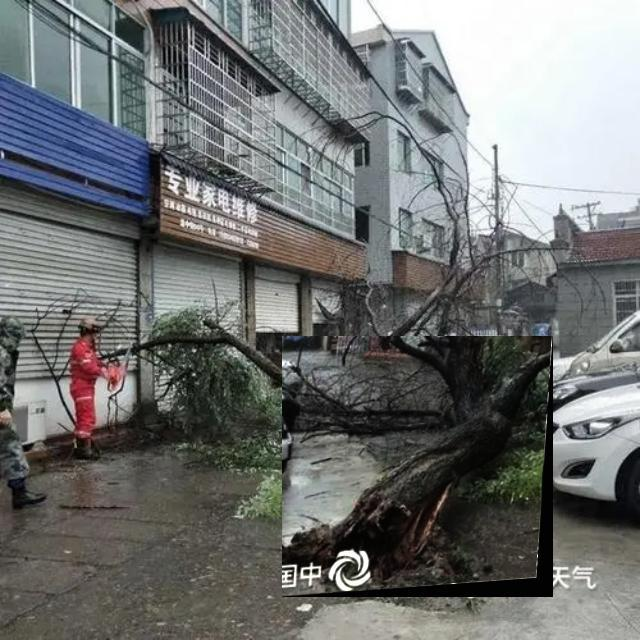fallen_tree: (282, 336, 554, 598)
